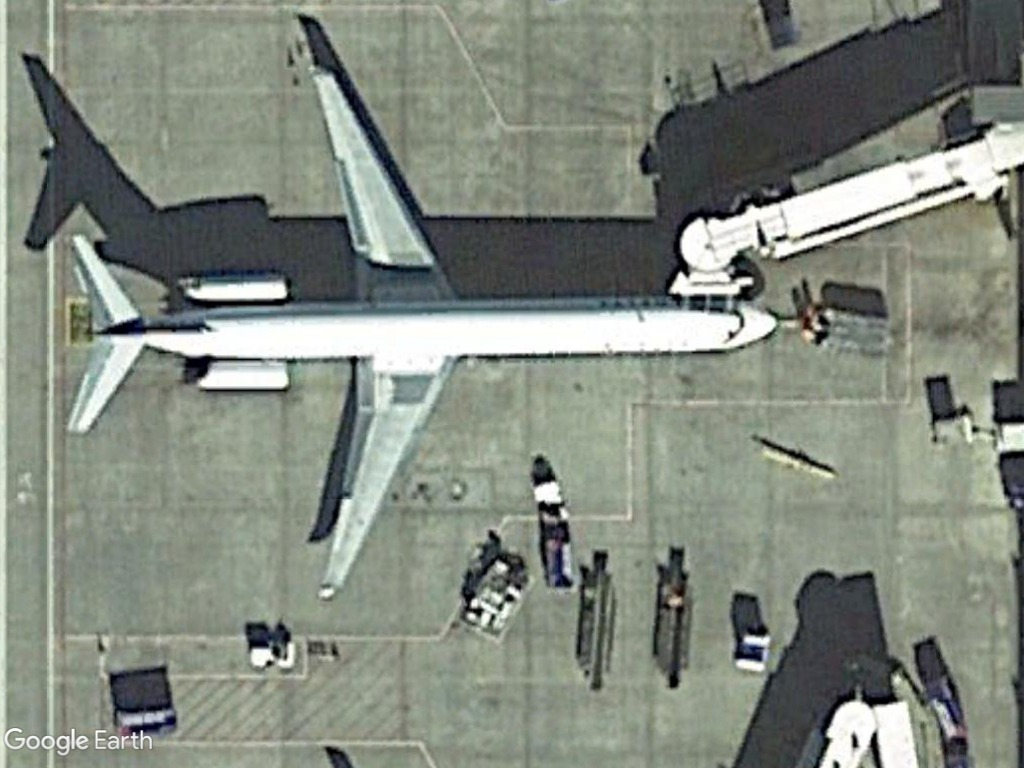chartered: (54, 50, 780, 602)
